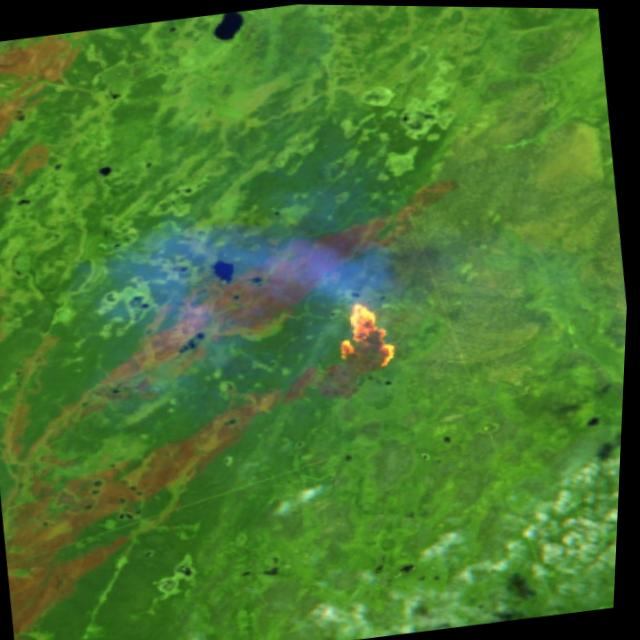fire: (328, 294, 409, 375)
